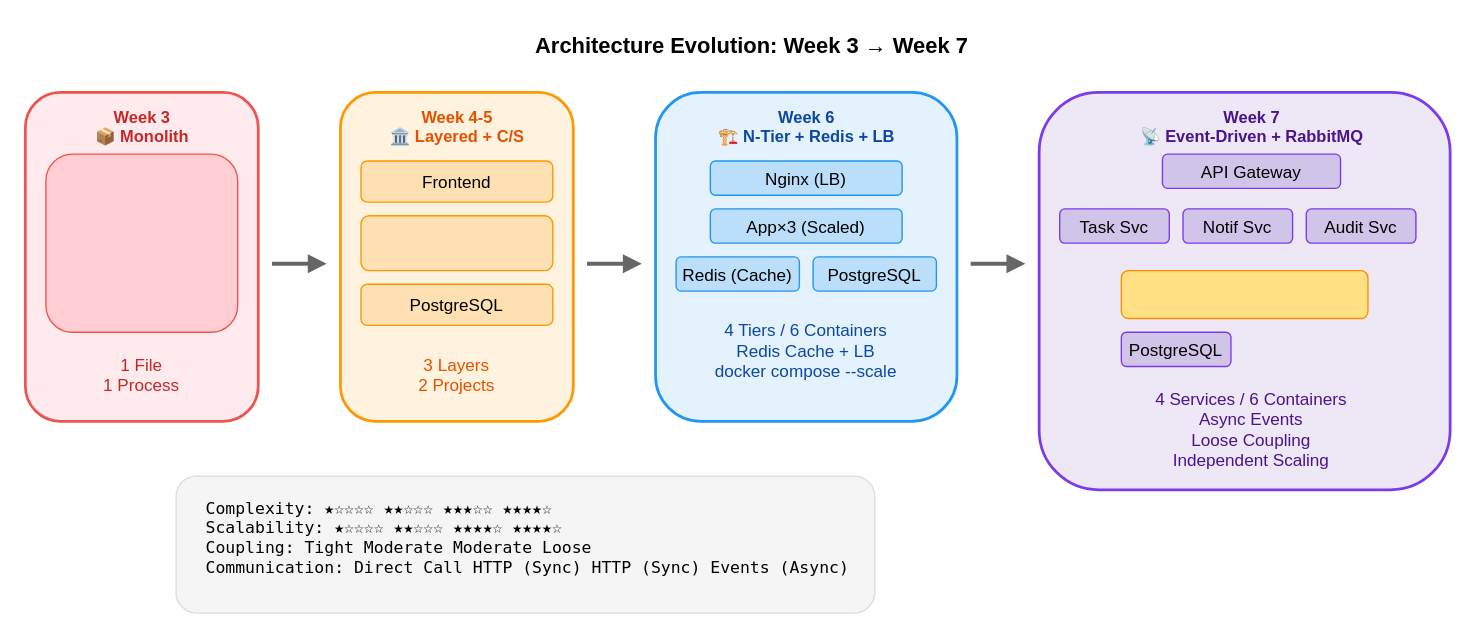
The diagram is 1474 pixels wide and 637 high, and some of its shapes have lost their labels. The centre of each missing label's shape, as x and y in pixels:
API (Layered) Controller→Service→Repo: point (456, 242)
server.js (ทุกอย่างอยู่ที่เดียว) ────── Routes Logic DB Access ────── SQLite: point (141, 242)
🐰 RabbitMQ (Pub/Sub): point (1244, 294)
